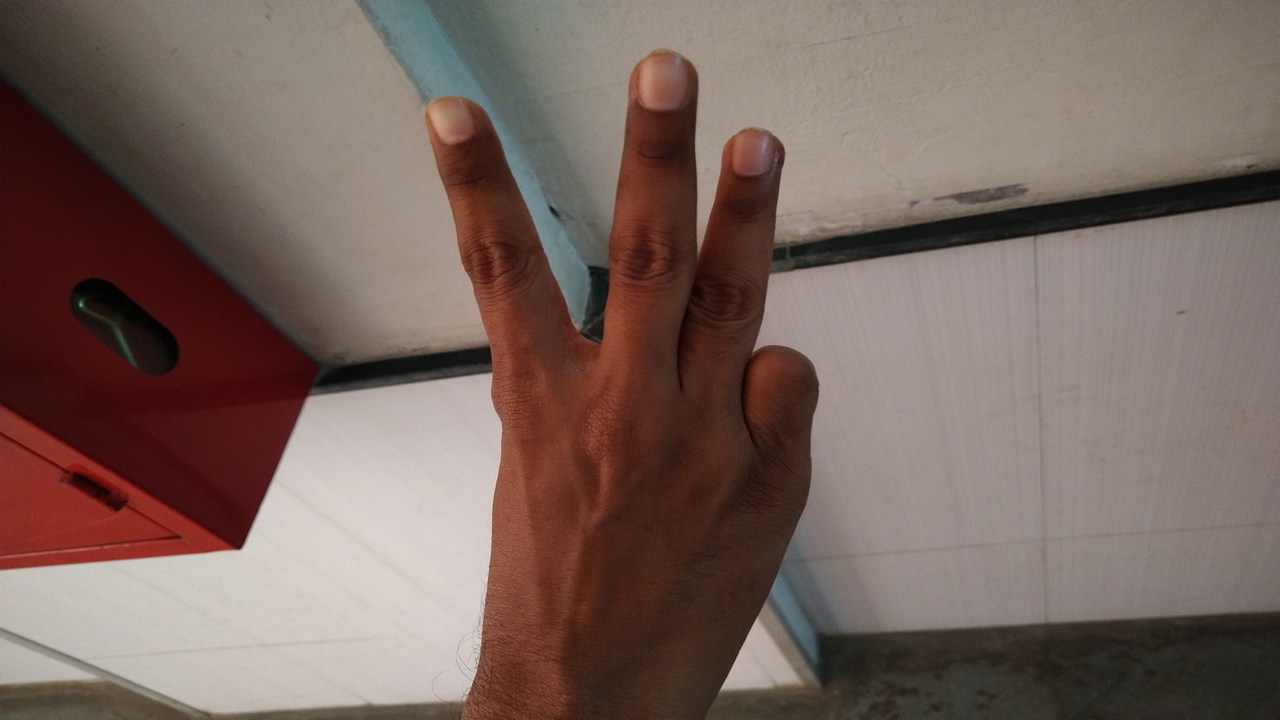fingertip: (624, 52, 700, 120), (406, 94, 488, 156), (718, 126, 790, 186)
